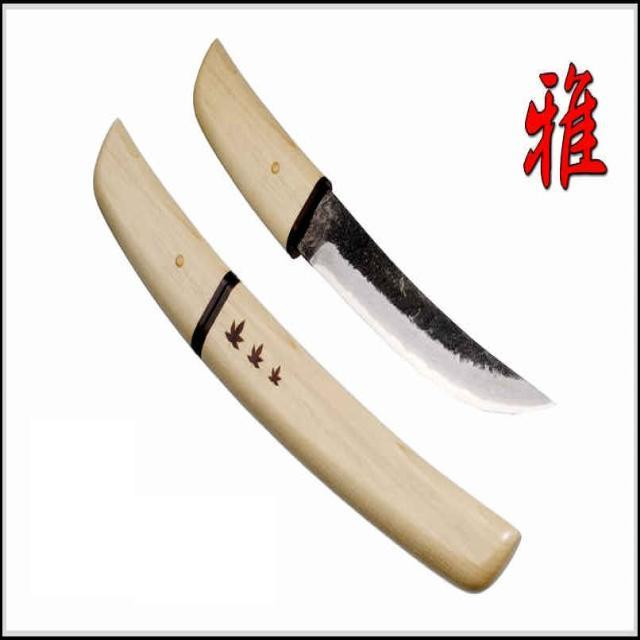Pisau: (180, 32, 572, 427)
